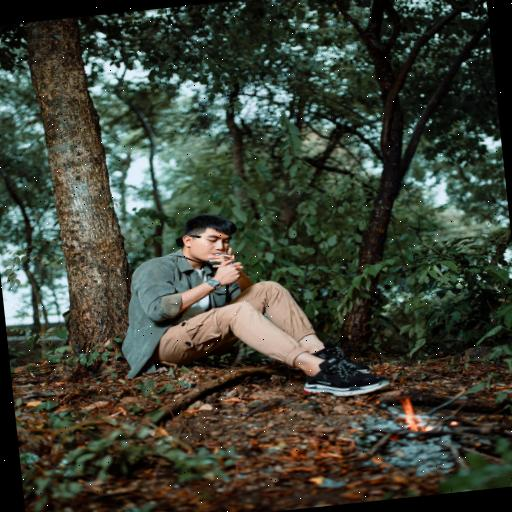membakar rokok: (196, 234, 253, 281)
